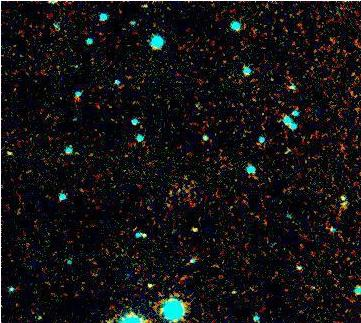star: (179, 217, 209, 247)
